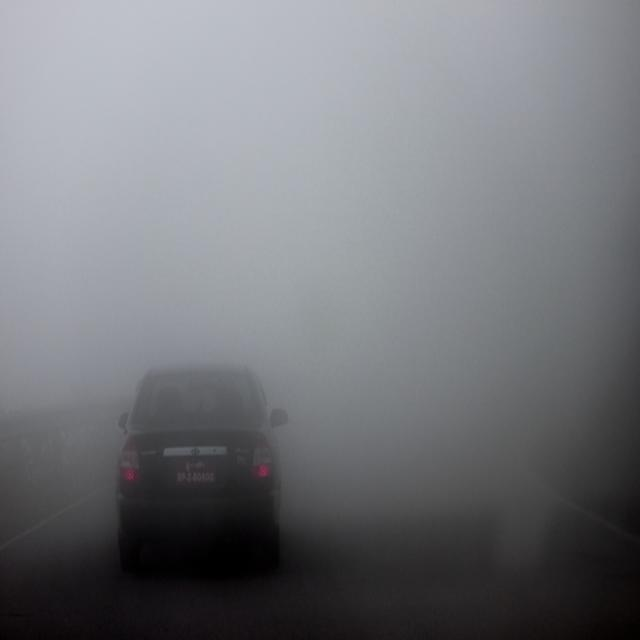car: (114, 365, 282, 577)
